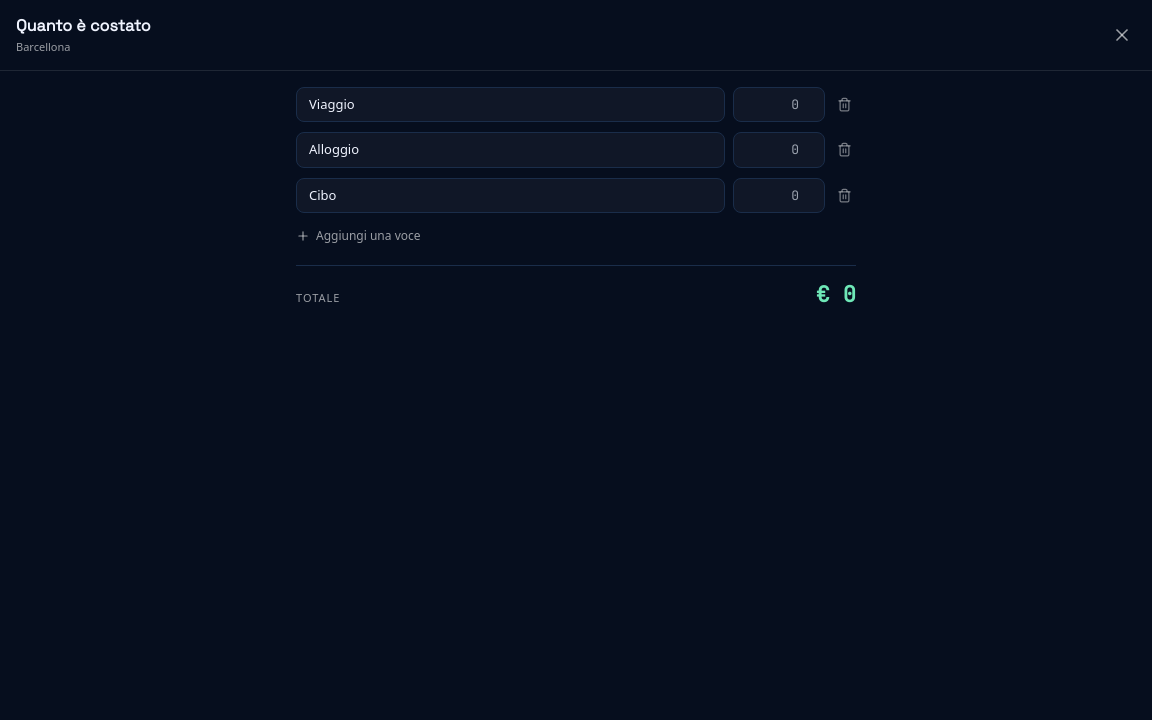
it: TripExpenses — pannello delle spese › scrivere una spesa aggiorna il totale
Type "320" into the number field named "Speso per Viaggio" at (779, 104), box [733,86,825,122]
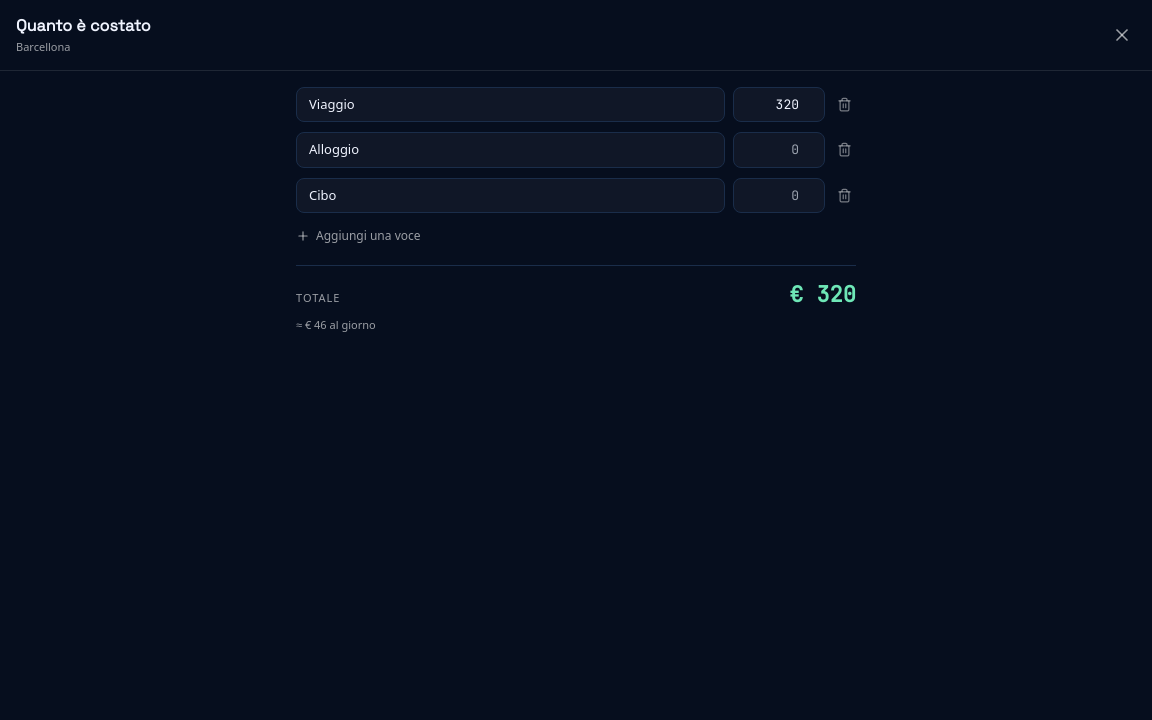
expect the text "€ 320" is shown: met, box [790,278,856,311]
